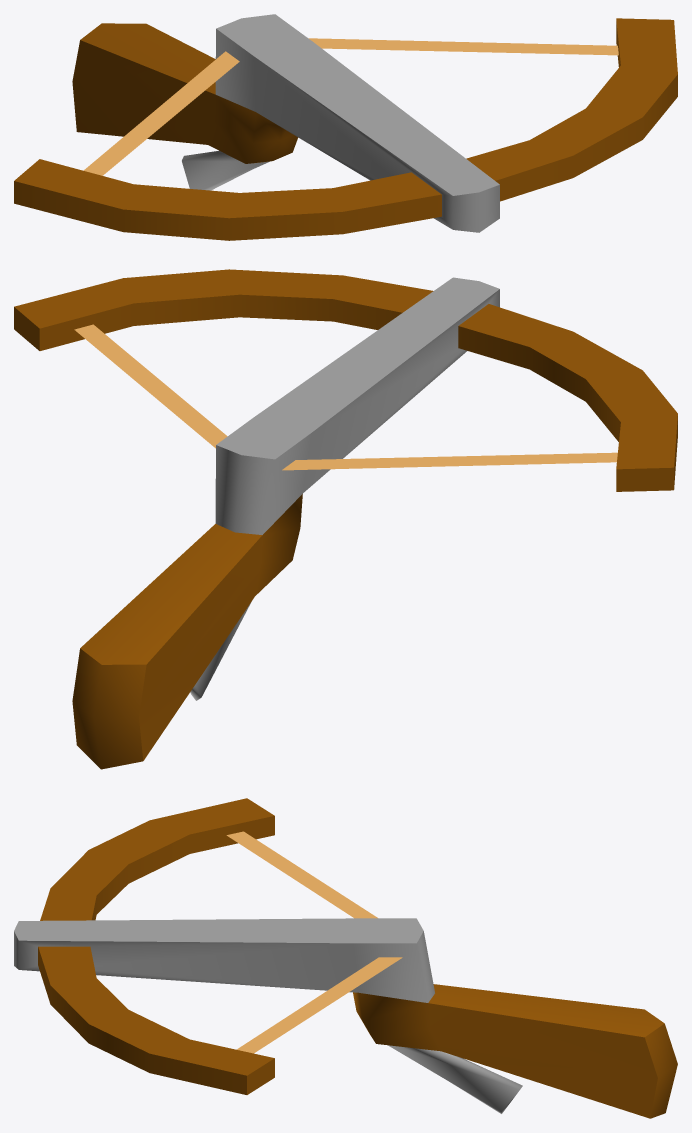
The model's file is Crossbow.glb.
3 views of the same model, one above another, from view 1: azimuth 30°, elevation 25°; view 2: azimuth 150°, elevation 25°; view 3: azimuth 270°, elevation 25° (orthographic). The views are drawn at different scales.
Parts seen in each view (by area): view 1: Crossbow_01; view 2: Crossbow_01; view 3: Crossbow_01.
Boxes of the visible parts, x1=… form: Crossbow_01: x1=14, y1=14, x2=677, y2=240; Crossbow_01: x1=14, y1=269, x2=677, y2=769; Crossbow_01: x1=14, y1=798, x2=677, y2=1118.
Bounding box in the file's own units: 0.2959 × 0.0912 × 0.2991.
1 material, 1 textured.
